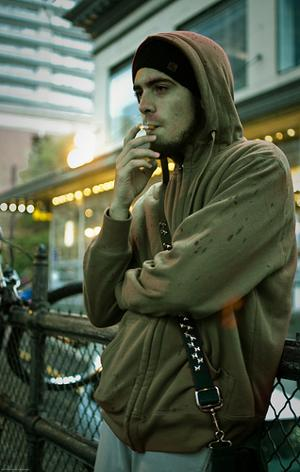person: (81, 28, 298, 472)
